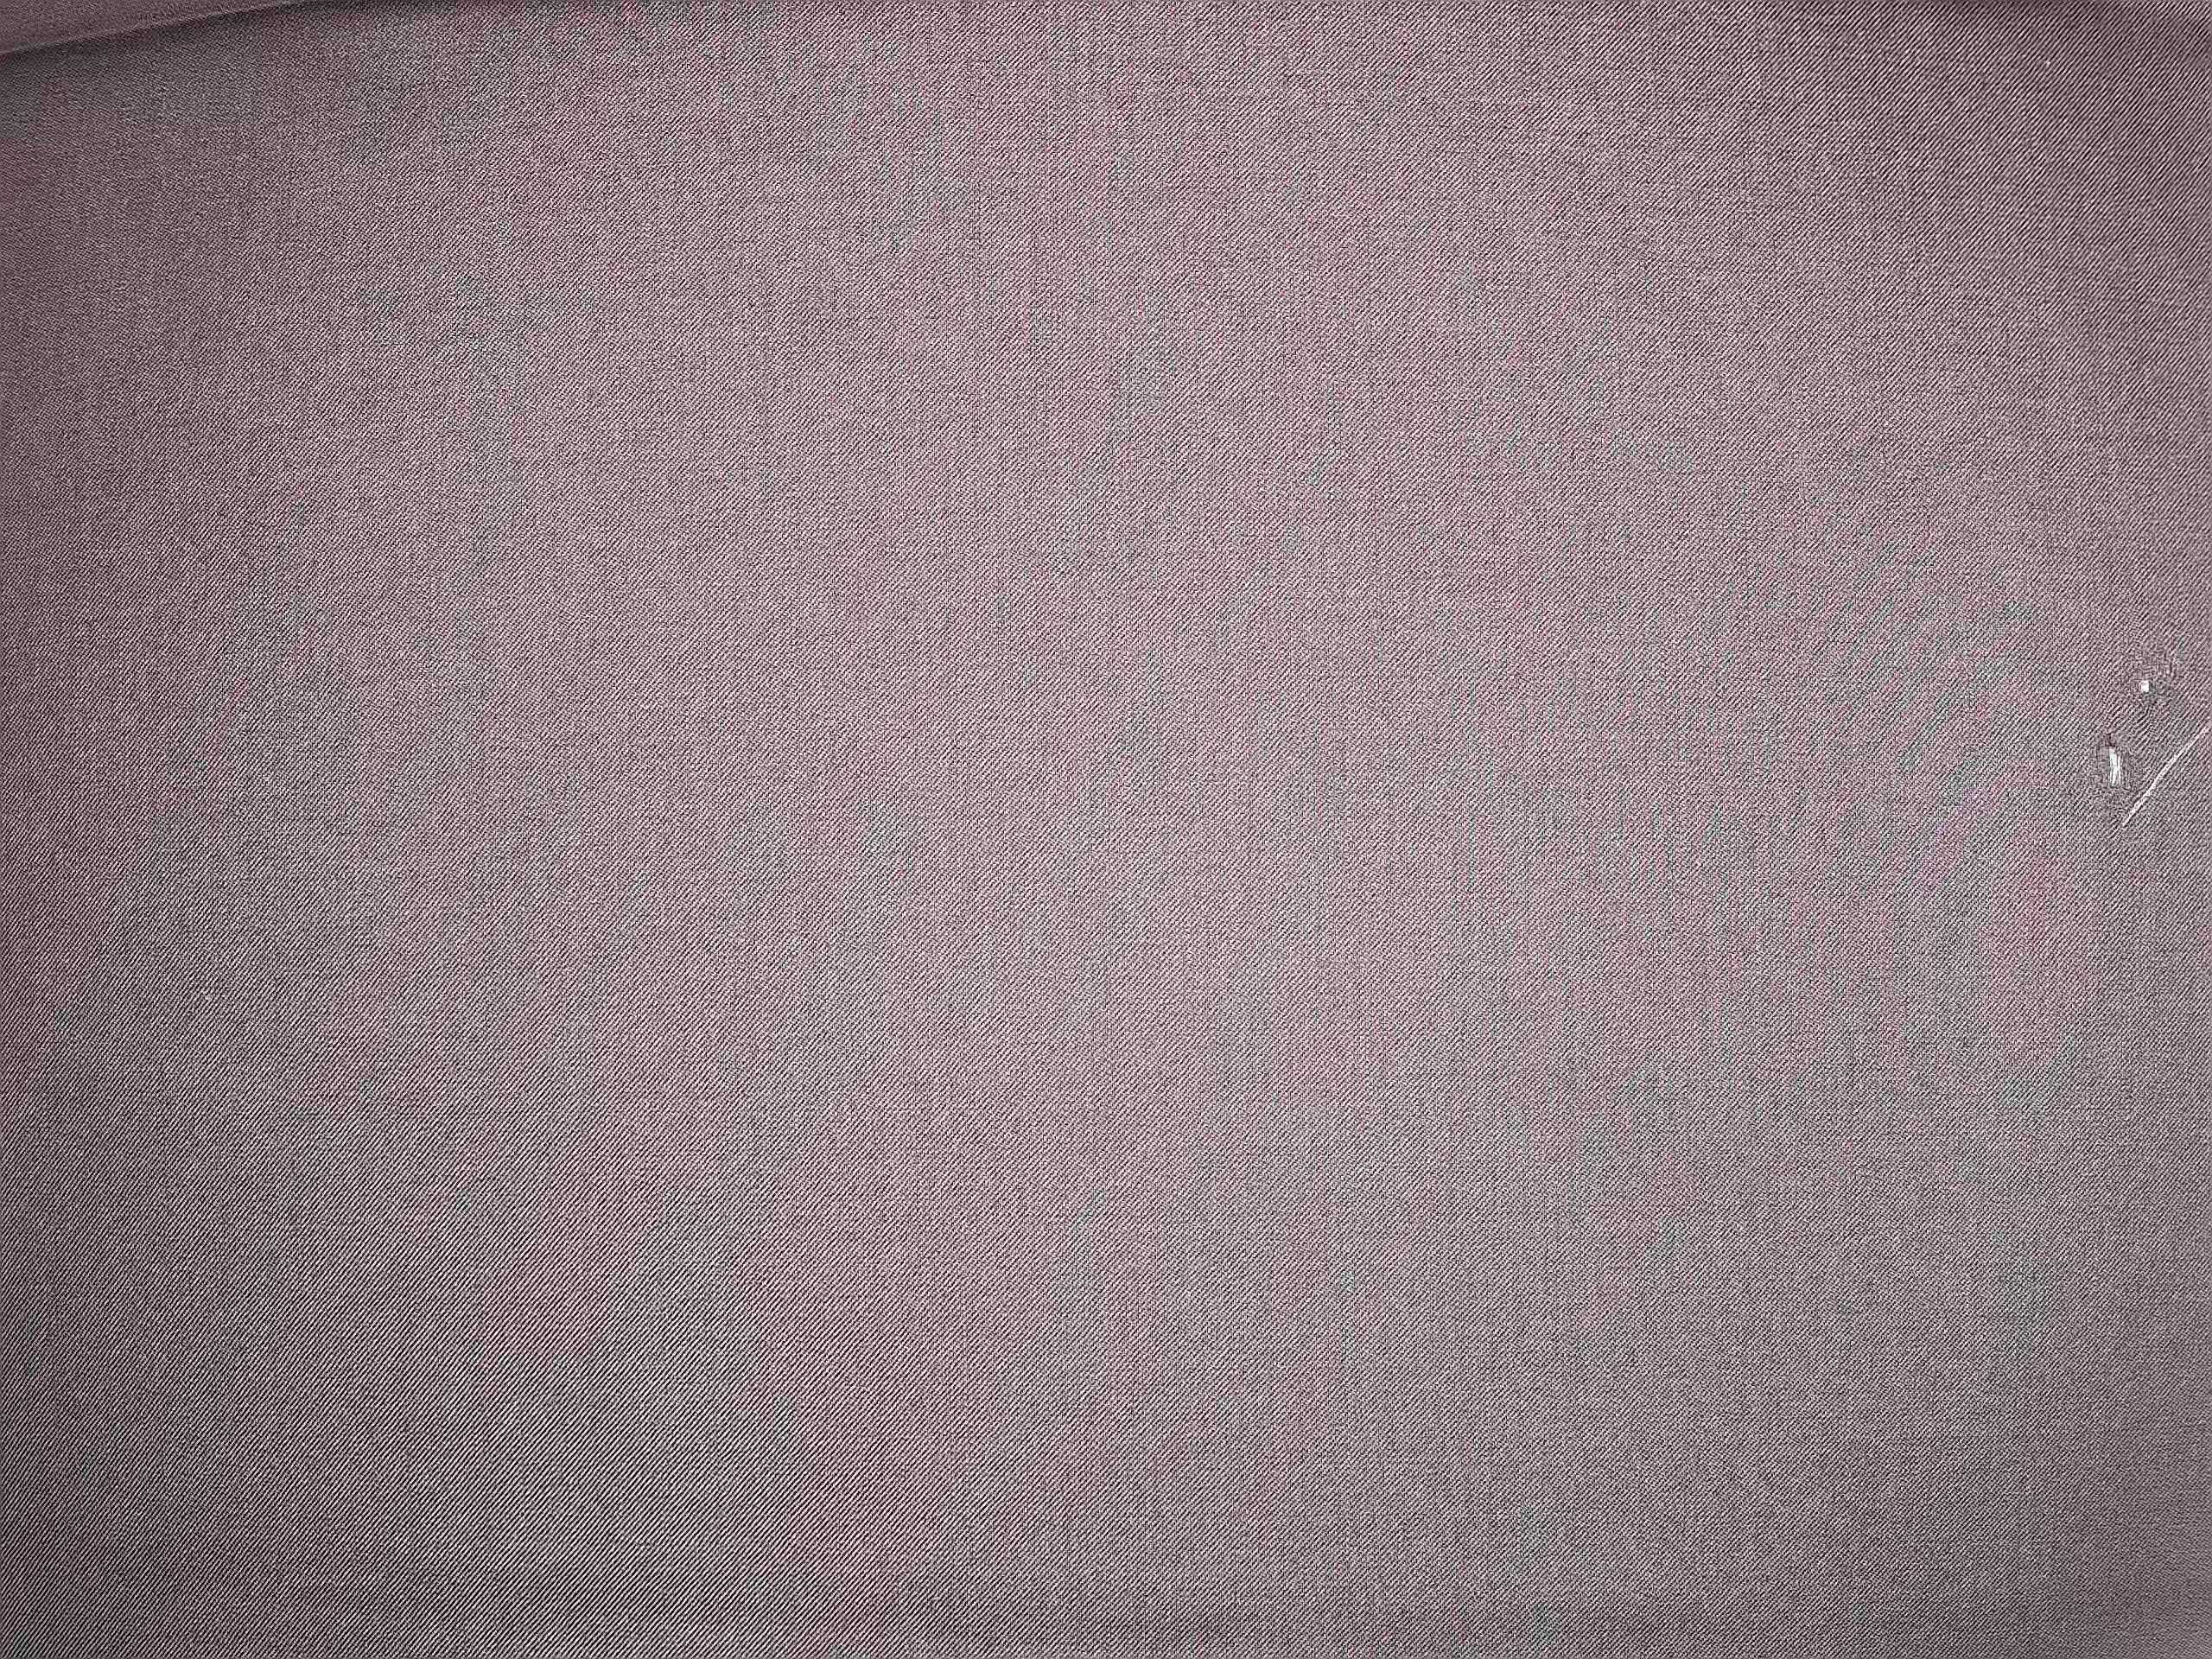brushed-hole: (2094, 629, 2165, 833)
